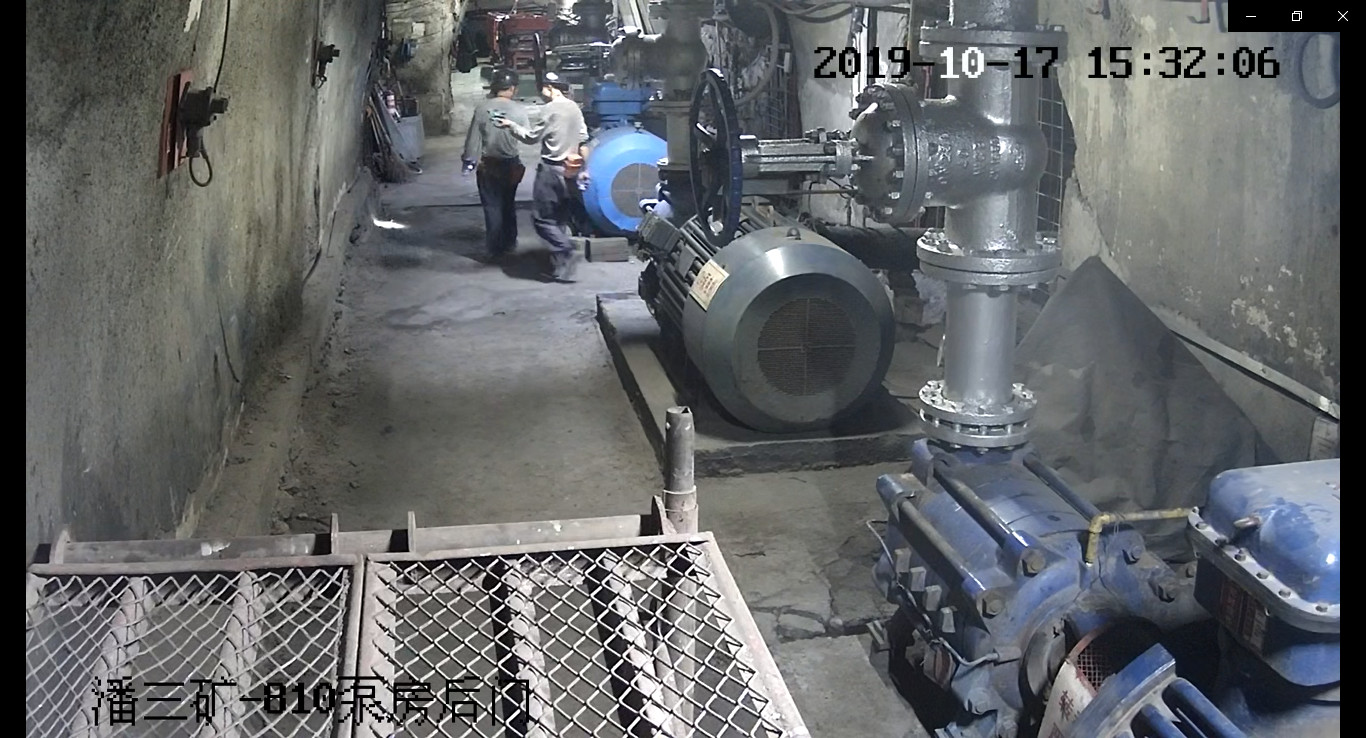helmet: (487, 66, 520, 86), (534, 71, 568, 87)
